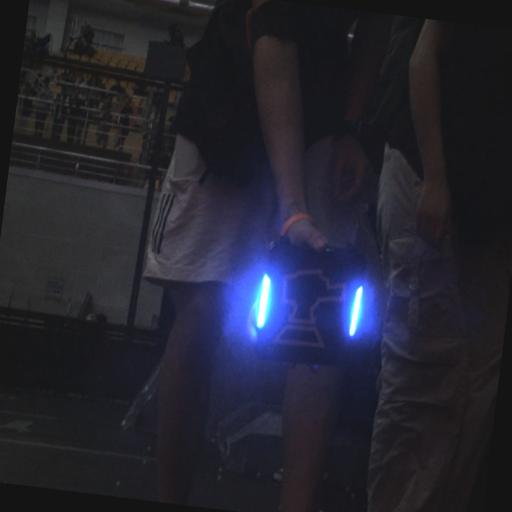target: (252, 259, 370, 360)
